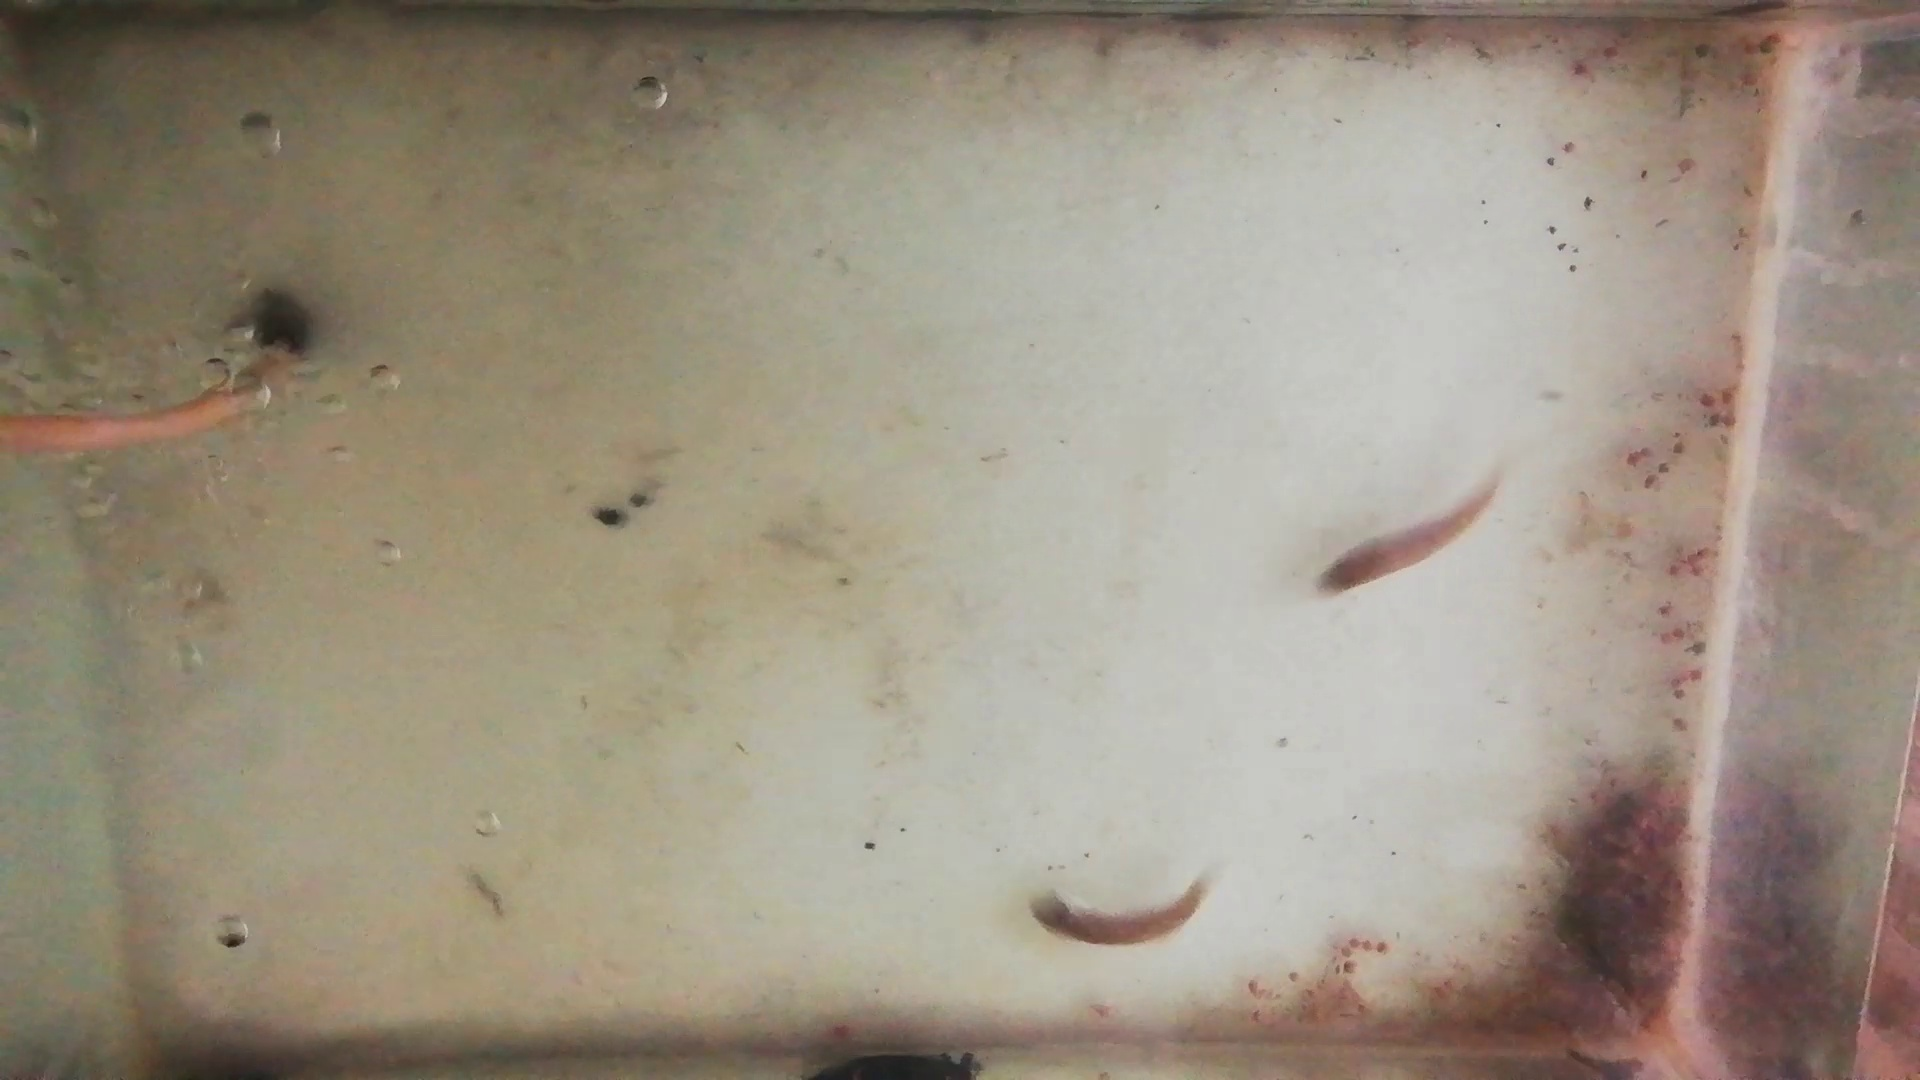fish: (1321, 476, 1507, 597), (1029, 876, 1207, 945)
